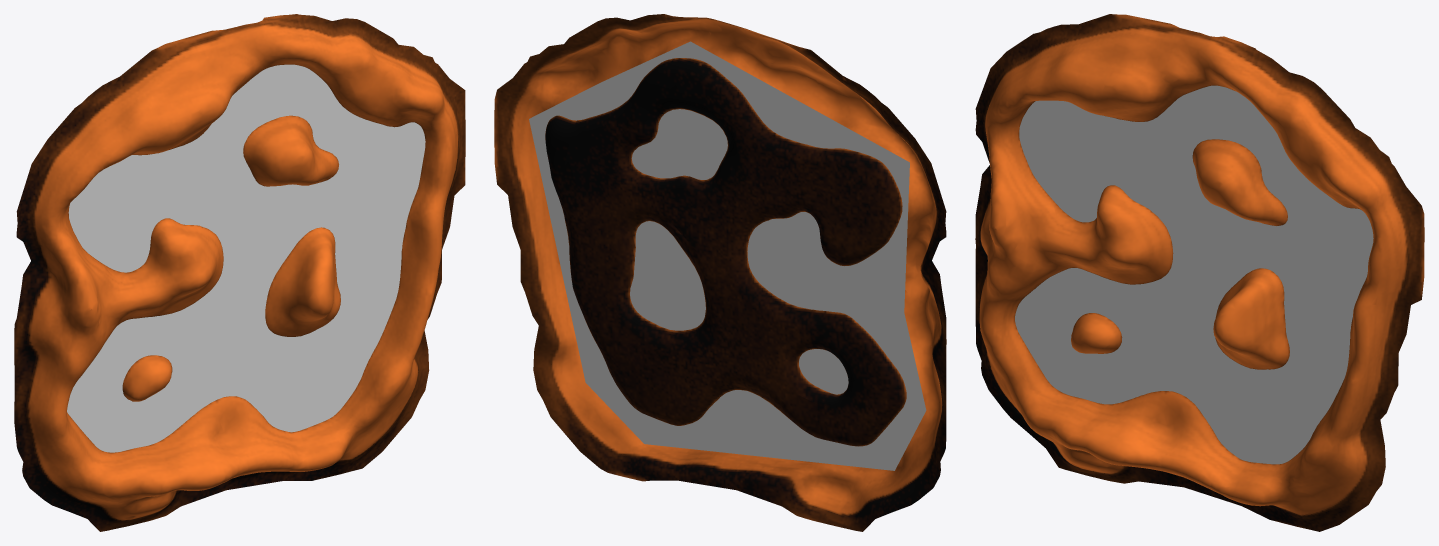
File: testarena2.glb
3 renders of one model, left to right at view 1: azimuth 30°, elevation 25°; view 2: azimuth 150°, elevation 25°; view 3: azimuth 330°, elevation 25°, orthographic.
Visible parts, largest first — view 1: terrain, _water; view 2: terrain, _water; view 3: terrain, _water.
Boxes of the visible parts, box(x1,y1,x2,y2) form: terrain: box(14, 14, 465, 531); _water: box(67, 64, 425, 452); terrain: box(494, 14, 946, 531); _water: box(529, 41, 926, 470); terrain: box(975, 14, 1424, 531); _water: box(1015, 85, 1373, 464).
Size of what is drawn, in the model's own units: 62.78 by 63.19 by 7.77.
2 materials, 1 textured.
